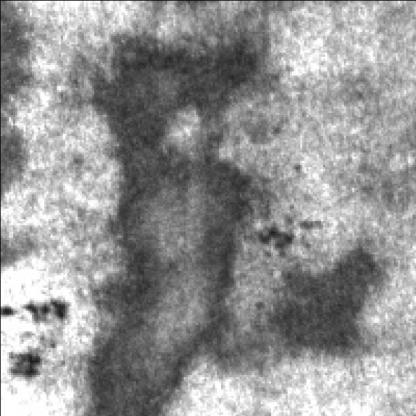patches: (85, 23, 254, 410), (273, 227, 391, 364)
